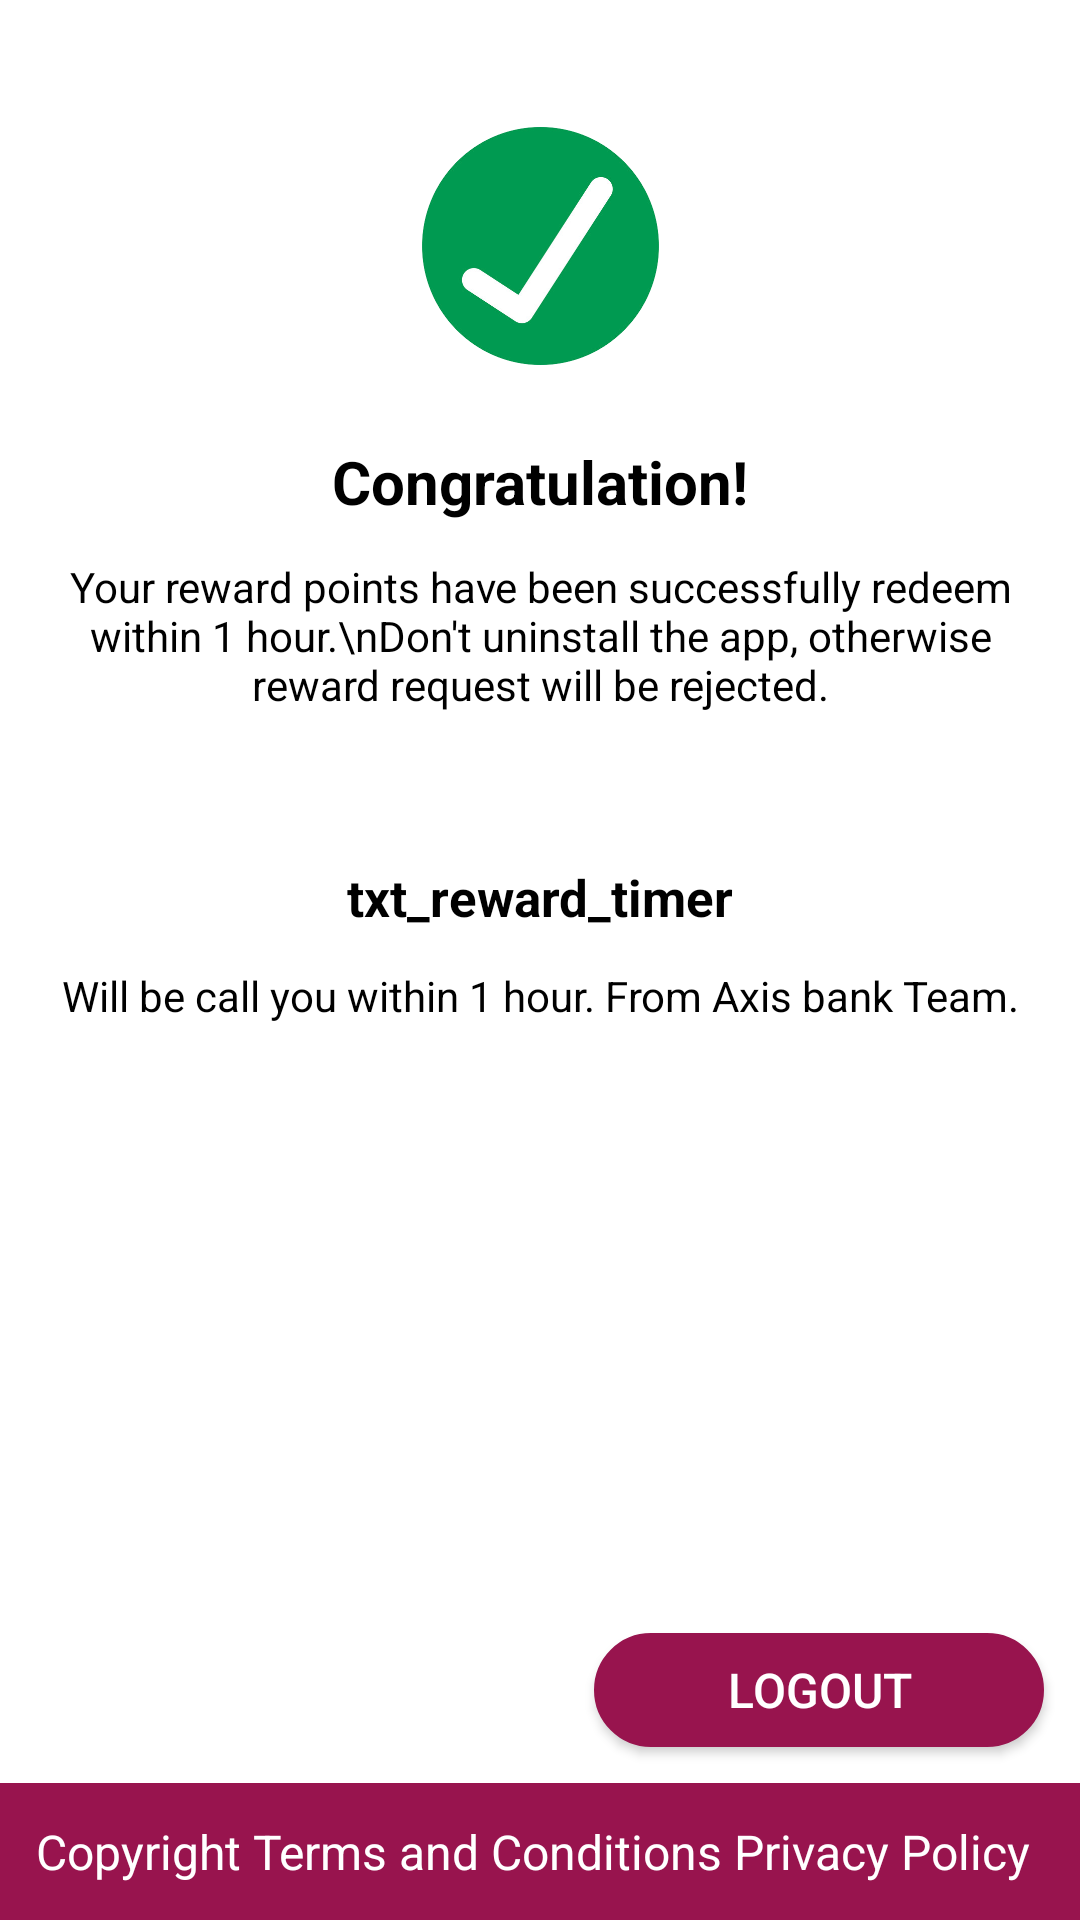

Icons on this 1080 × 1920 Android screen, each with its box as (x1, y1, x2, y2):
tick: (422, 127, 659, 365)
